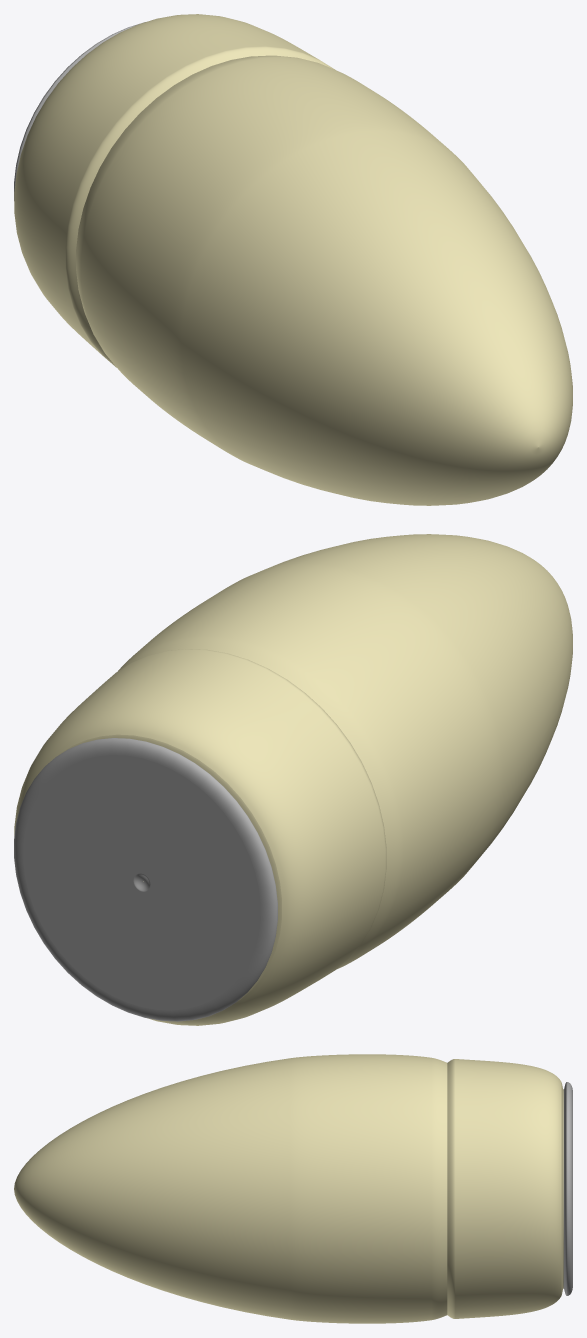
Rendered from NewBullet.fbx.
The picture shows the model from 3 angles, top to bottom: view 1: azimuth 30°, elevation 25°; view 2: azimuth 150°, elevation 25°; view 3: azimuth 270°, elevation 25°; orthographic projection. The views are drawn at different scales.
Visible parts, largest first — view 1: Linie01; view 2: Linie01; view 3: Linie01.
Boxes of the visible parts, x1=… form: Linie01: x1=14, y1=14, x2=572, y2=505; Linie01: x1=14, y1=534, x2=572, y2=1025; Linie01: x1=14, y1=1054, x2=572, y2=1323.
Bounding box in the file's own units: 9.2 × 9.22 × 19.1.
